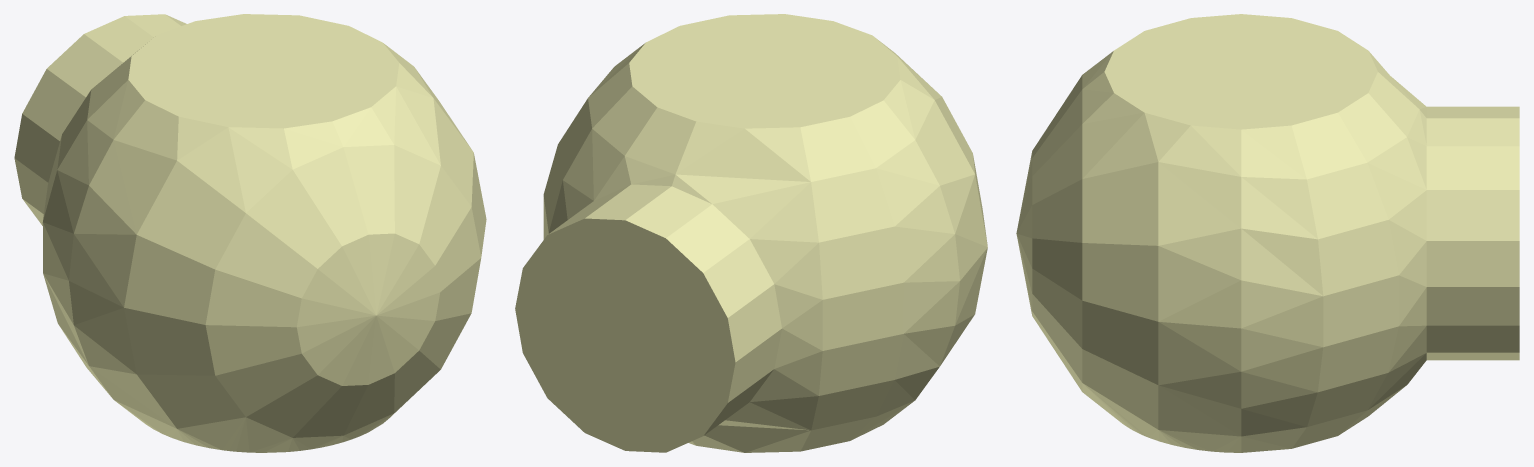
Rendered from LARM_FOREARM_DUMMY1_LINK_mesh.dae.
3 renders of one model, left to right at view 1: azimuth 30°, elevation 25°; view 2: azimuth 150°, elevation 25°; view 3: azimuth 270°, elevation 25°, orthographic.
Visible parts, largest first — view 1: LARM_FOREARM_DUMMY1_LINK; view 2: LARM_FOREARM_DUMMY1_LINK; view 3: LARM_FOREARM_DUMMY1_LINK.
Part boxes in pixels (left/top/right/bottom): LARM_FOREARM_DUMMY1_LINK: left=14, top=14, right=486, bottom=452; LARM_FOREARM_DUMMY1_LINK: left=515, top=14, right=987, bottom=452; LARM_FOREARM_DUMMY1_LINK: left=1016, top=14, right=1519, bottom=452.
Size of the model in its own units: 0.063 by 0.05 by 0.0705.
